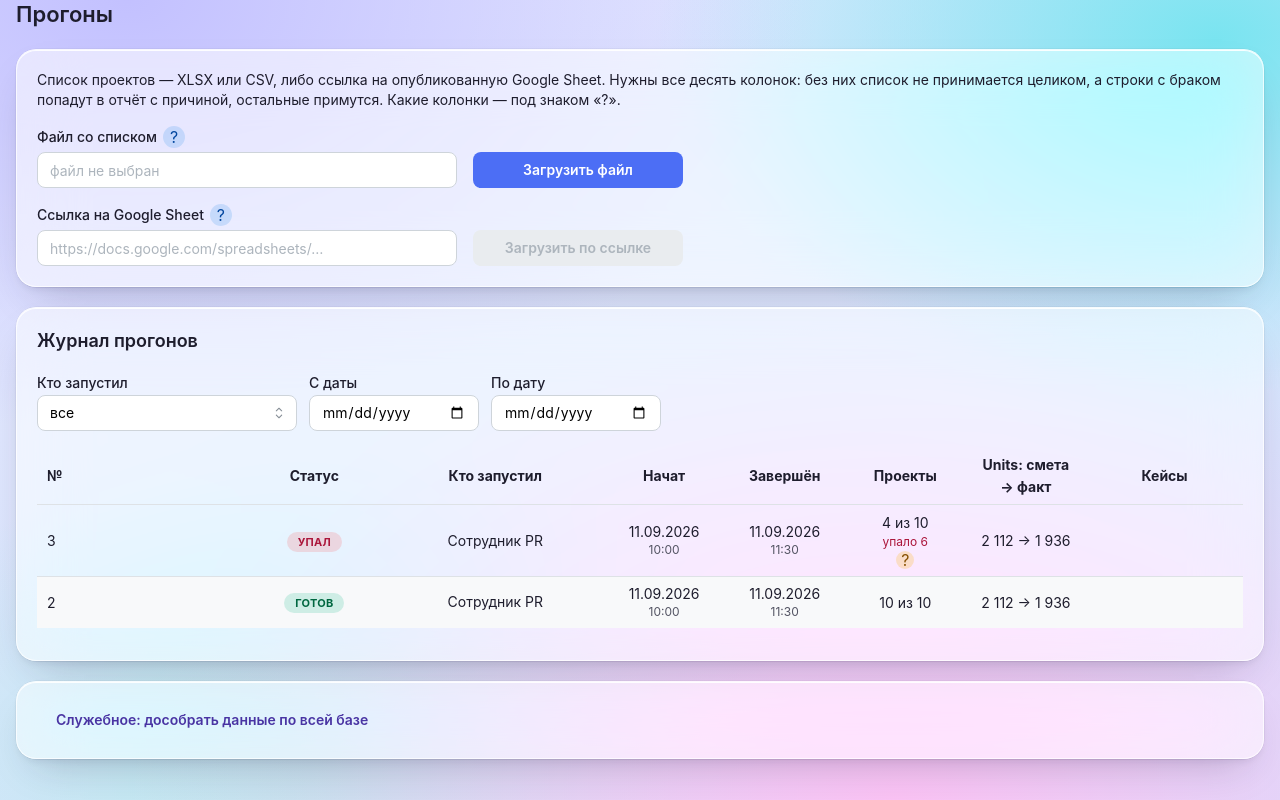
журнал прогонов › E1 и E4: строки с числами, у упавшего видна причина
Expected: the text "упало 6" is shown, [883, 534, 928, 549]
Click the button named "почему пропущены".
click(905, 560)  # box [896, 551, 914, 569]
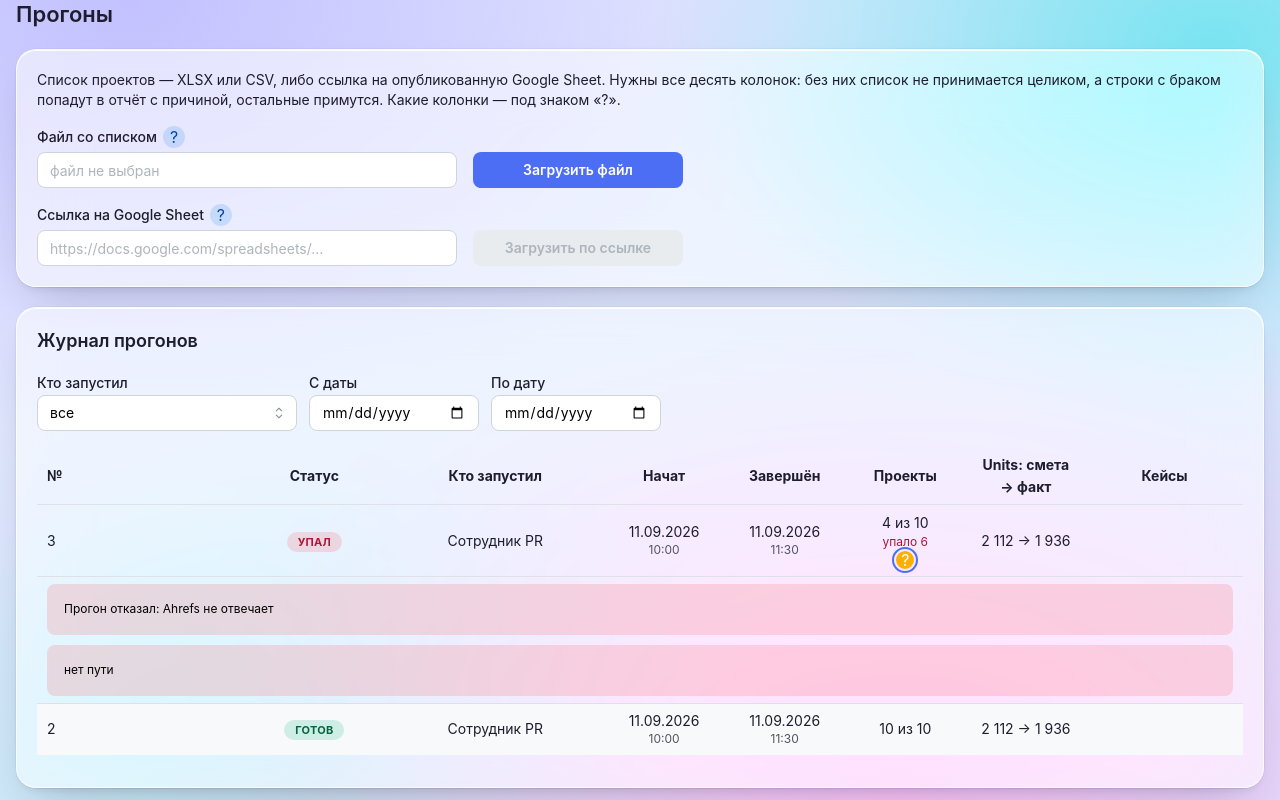
Now the text "Прогон отказал: Ahrefs не отвечает" is shown, box [64, 601, 274, 616]
